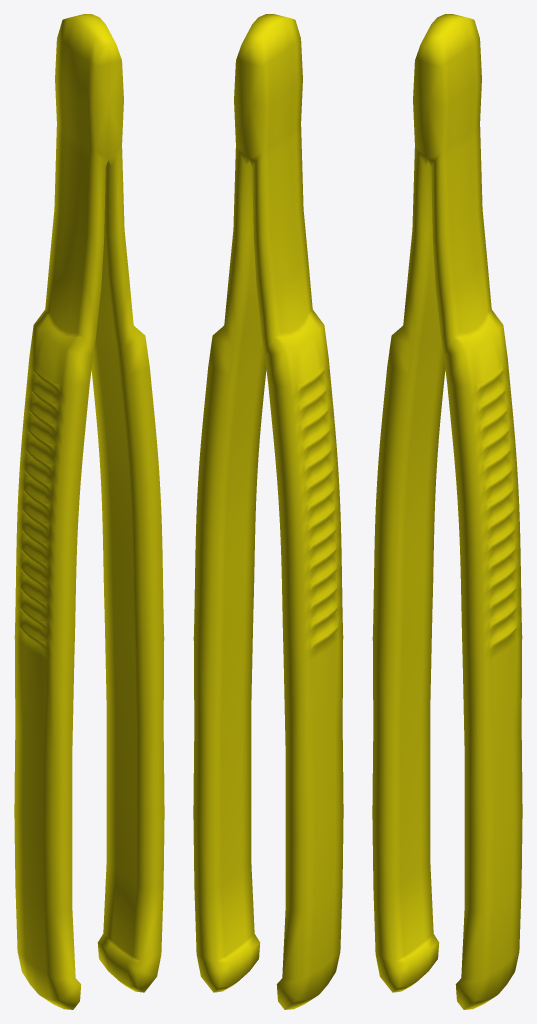
File: twisers2.fbx
3 views of the same model, side by side, from view 1: azimuth 30°, elevation 25°; view 2: azimuth 150°, elevation 25°; view 3: azimuth 330°, elevation 25° (orthographic).
Visible parts, largest first — view 1: Plane.007; view 2: Plane.007; view 3: Plane.007.
Boxes of the visible parts, bbox=[...] form: Plane.007: bbox=[14, 14, 164, 1009]; Plane.007: bbox=[193, 14, 343, 1009]; Plane.007: bbox=[372, 14, 522, 1009].
Bounding box in the file's own units: 32.69 × 255 × 18.35.
